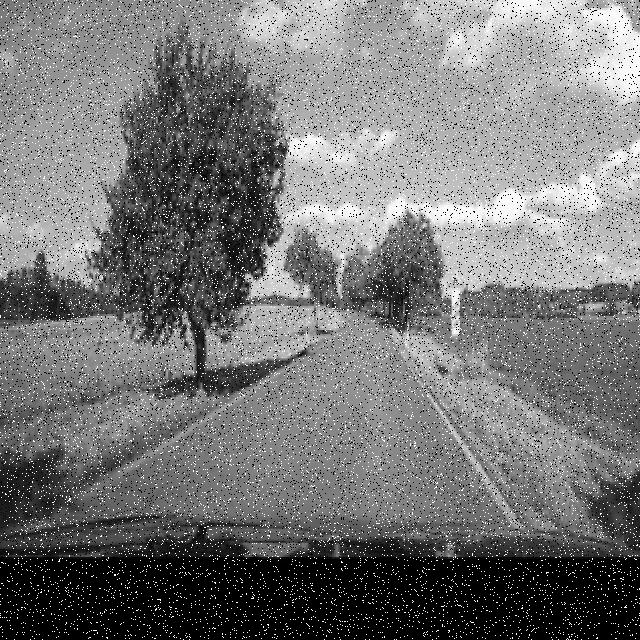clear-road: (46, 314, 510, 538)
